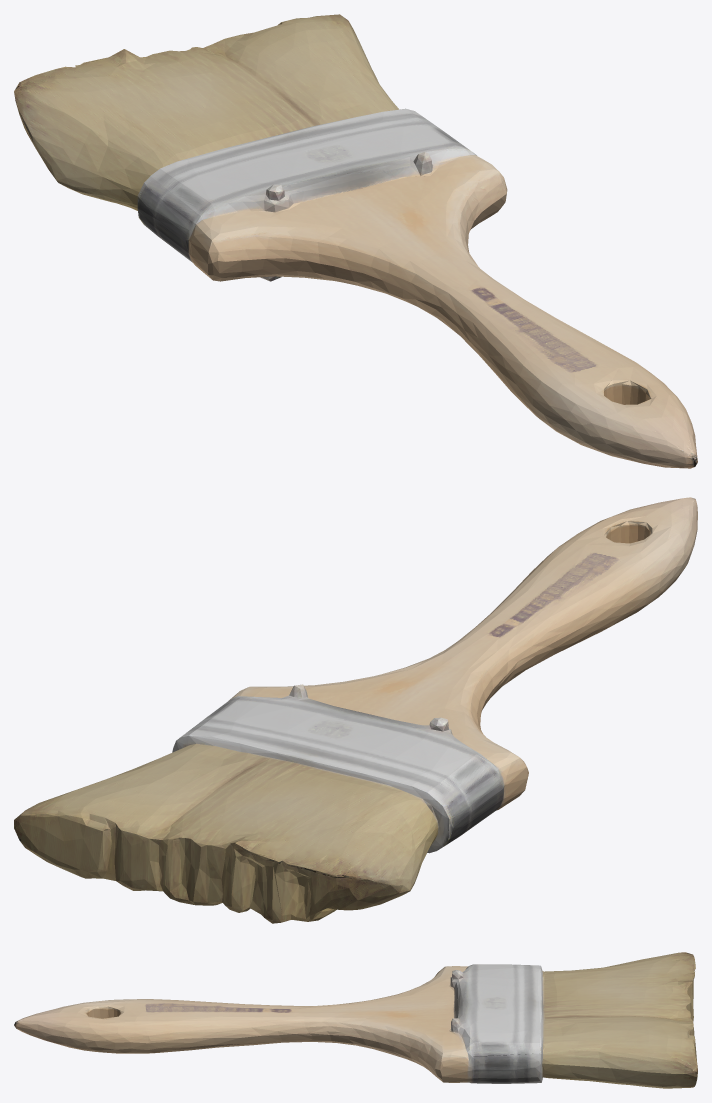
File: paintbrush_2.glb
The picture shows the model from 3 angles, top to bottom: view 1: azimuth 30°, elevation 25°; view 2: azimuth 150°, elevation 25°; view 3: azimuth 270°, elevation 25°; orthographic projection. The views are drawn at different scales.
Parts seen in each view (by area): view 1: world; view 2: world; view 3: world.
Boxes of the visible parts, x1,y1,x2,y2 form: world: (14, 14, 697, 468); world: (14, 497, 697, 923); world: (14, 952, 697, 1088).
Bounding box in the file's own units: 0.3813 × 0.0988 × 0.9939.
1 material, 1 textured.
